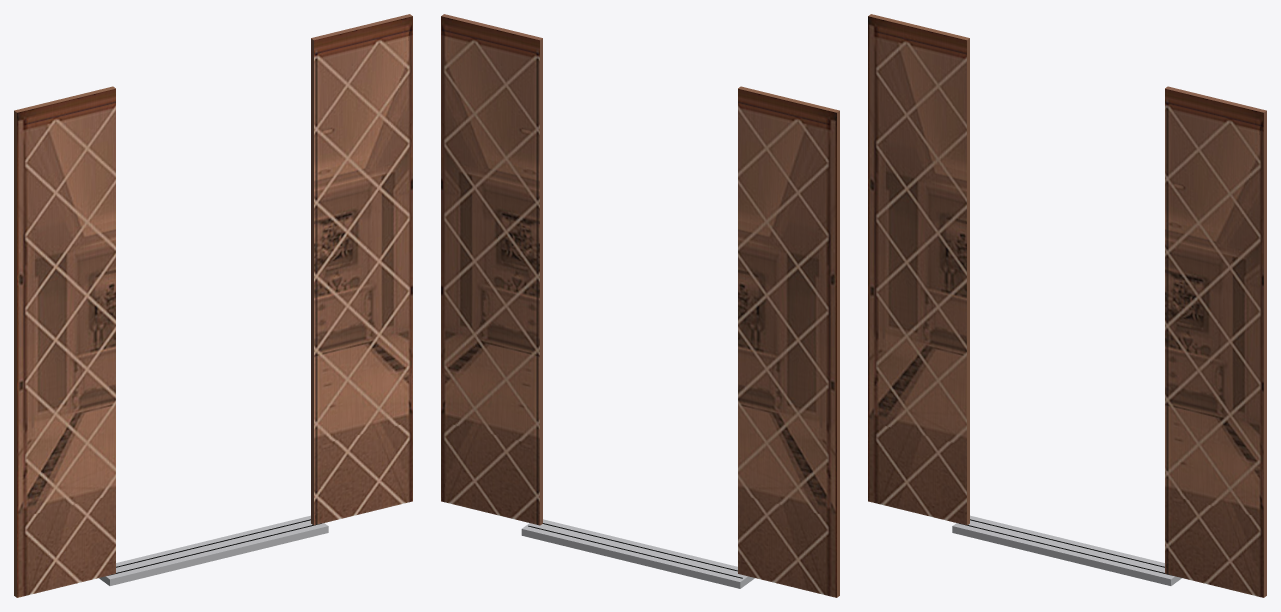
Rendered from cabin_door_TM024.glb.
3 renders of one model, left to right at view 1: azimuth 30°, elevation 25°; view 2: azimuth 150°, elevation 25°; view 3: azimuth 330°, elevation 25°, orthographic.
Visible parts, largest first — view 1: Car_Door_L, Car_Door_R, Door_Sill; view 2: Car_Door_L, Car_Door_R, Door_Sill; view 3: Car_Door_R, Car_Door_L, Door_Sill.
Part boxes in pixels (bbox=[...]): Car_Door_L: bbox=[14, 86, 115, 597]; Car_Door_R: bbox=[311, 14, 412, 525]; Door_Sill: bbox=[99, 515, 328, 585]; Car_Door_L: bbox=[738, 86, 839, 597]; Car_Door_R: bbox=[441, 14, 542, 525]; Door_Sill: bbox=[521, 519, 754, 588]; Car_Door_R: bbox=[1165, 86, 1266, 597]; Car_Door_L: bbox=[868, 14, 969, 525]; Door_Sill: bbox=[952, 515, 1181, 585].
Bounding box in the file's own units: 1.81 × 2.15 × 0.12.
3 materials, 1 textured.
